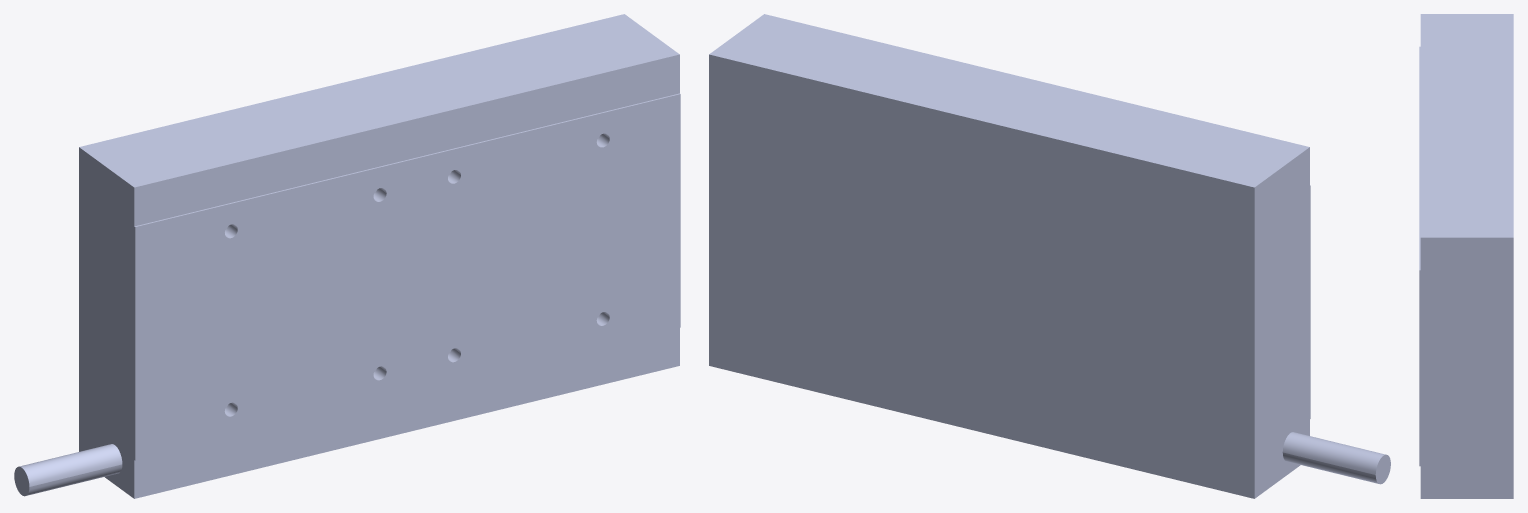
The model's file is MTK-9.glb.
The picture shows the model from 3 angles, left to right: view 1: azimuth 30°, elevation 25°; view 2: azimuth 150°, elevation 25°; view 3: azimuth 270°, elevation 25°; orthographic projection. The views are drawn at different scales.
Parts seen in each view (by area): view 1: MTK-9_node_1; view 2: MTK-9_node_1; view 3: MTK-9_node_1.
Part boxes in pixels (x1,y1,x2,y2): MTK-9_node_1: (14, 14, 680, 498); MTK-9_node_1: (709, 14, 1390, 498); MTK-9_node_1: (1419, 14, 1513, 498).
Bounding box in the file's own units: 206 × 96 × 31.4.
